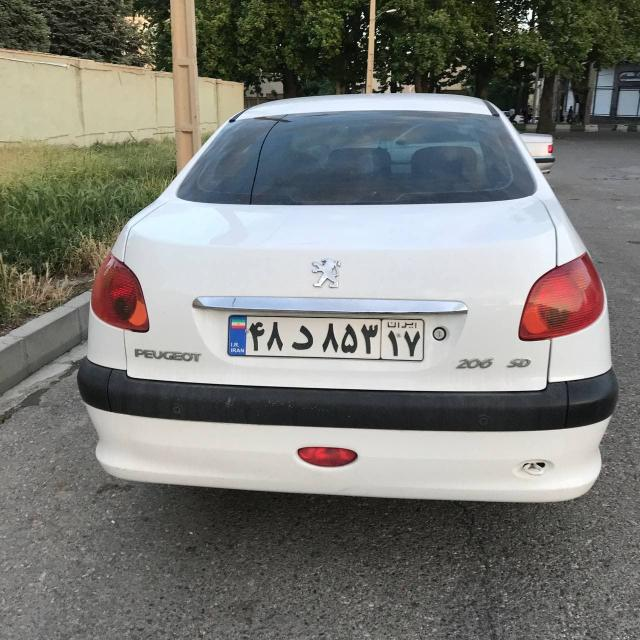Plates: (228, 316, 424, 361)
